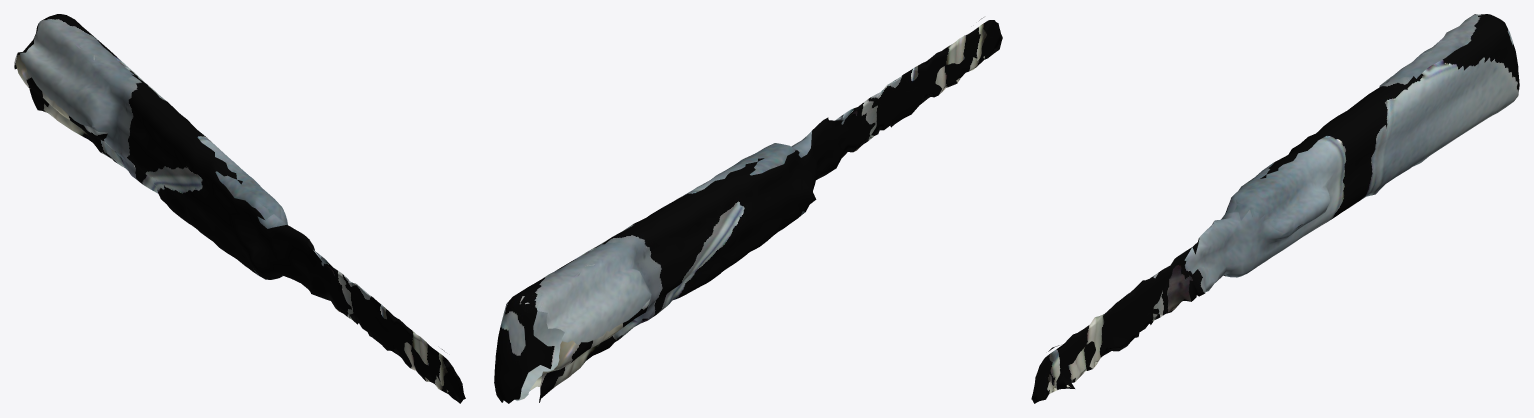
The model's file is scan_align.obj.
The picture shows the model from 3 angles, left to right: view 1: azimuth 30°, elevation 25°; view 2: azimuth 150°, elevation 25°; view 3: azimuth 330°, elevation 25°; orthographic projection. The views are drawn at different scales.
Size of the model in its own units: 0.0143 by 0.0216 by 0.1824.
